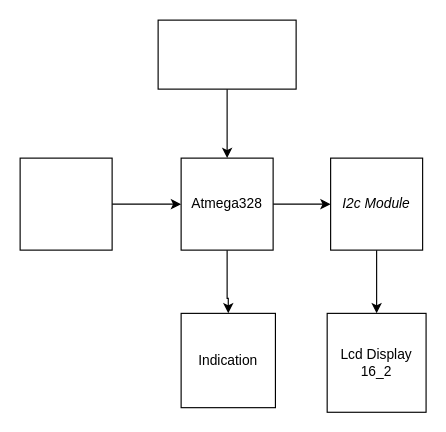
The diagram is 446 pixels wide and 432 high, and some of its shapes have lost their labels. Here are the shapes that lost their labels. From the top down, the centre of each, then its label:
At (226,54): "Power Supply".
At (65,203): "DHT 11 (Temperature Sensor)".
